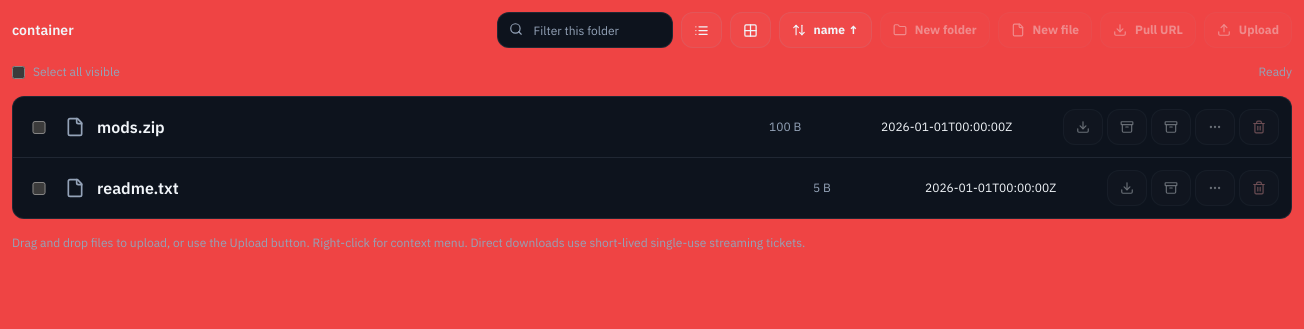
file action gates (file.archive, file.read-content) › refuses to open file contents without file.read-content
What coordinates should you click on to do the following:
click the button "readme.txt"
I would click on:
 (138, 188)
Its box is [65,176,801,200].
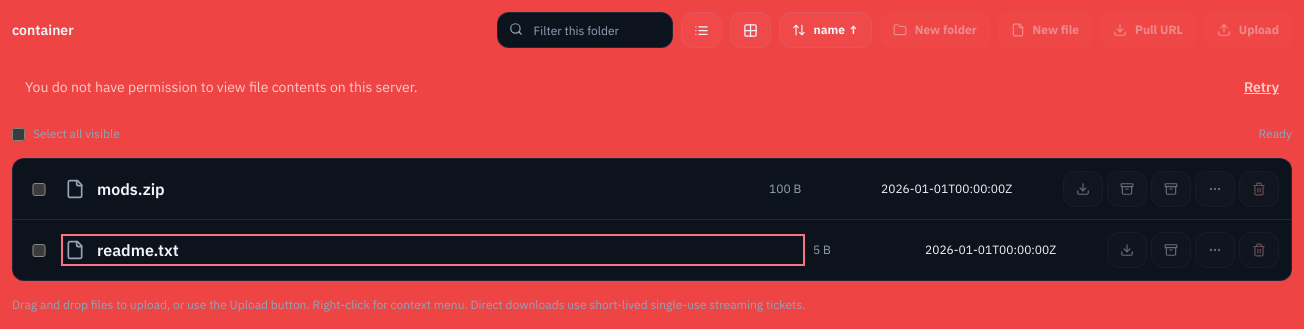
Expected: the text "You do not have permission to view file contents on this server." is shown, [25,78,418,96]
